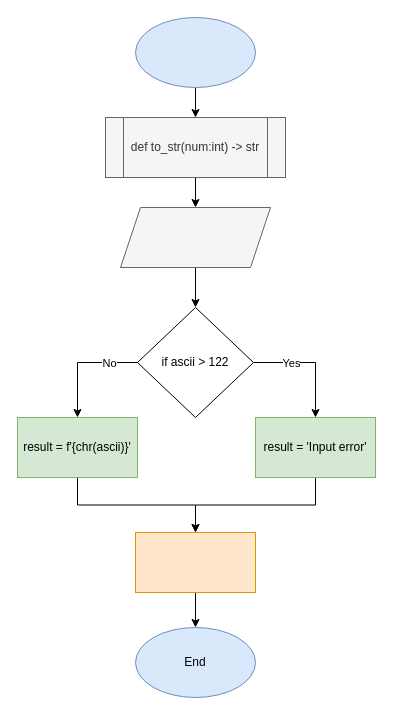
This 393x715 diagram has some shape labels left out. Each missing label, with the centre of its shape:
"ascii = num + 96 result = ''" goes at point (195, 237).
"return result" goes at point (195, 562).
"Start" goes at point (195, 52).
